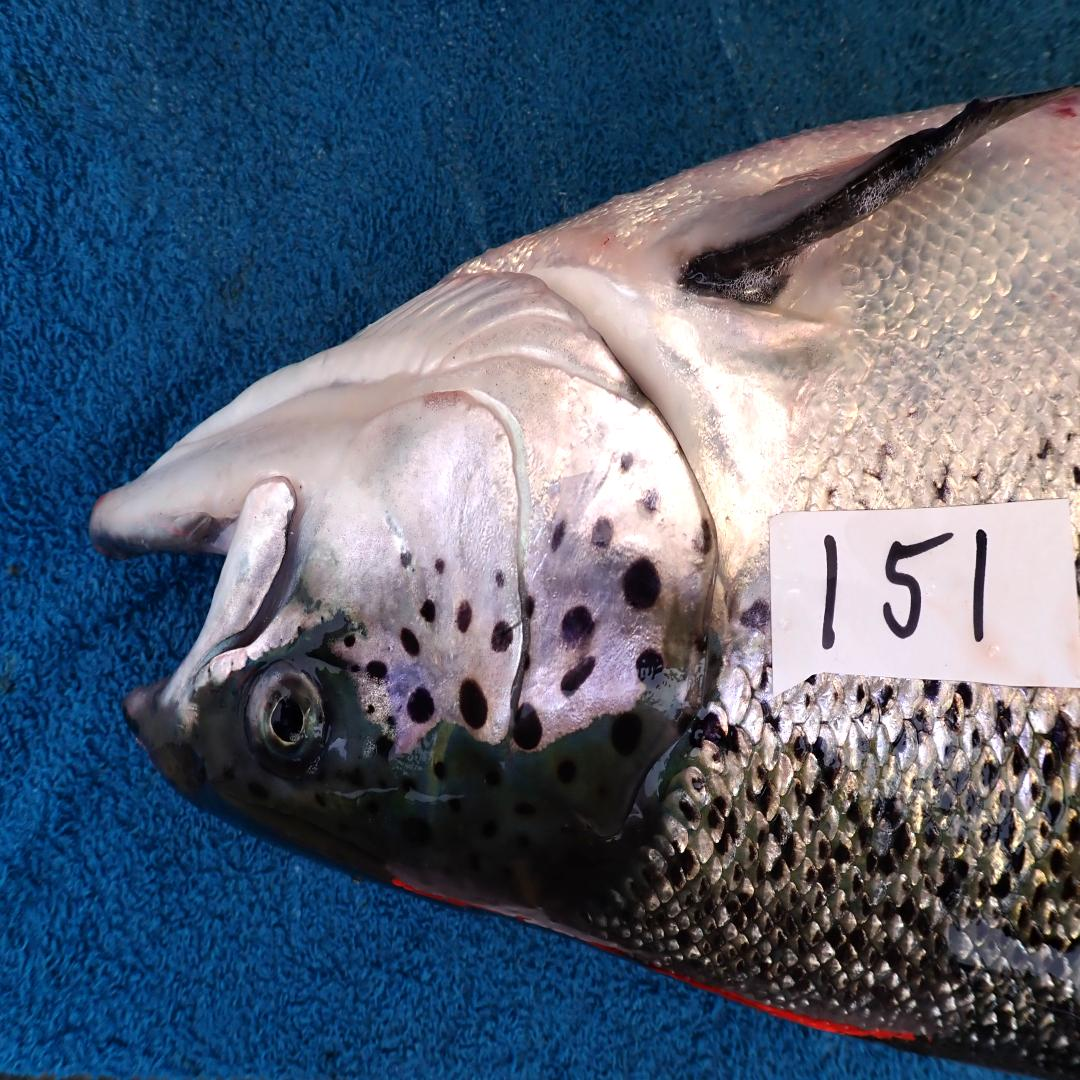roi: (292, 262, 716, 752)
